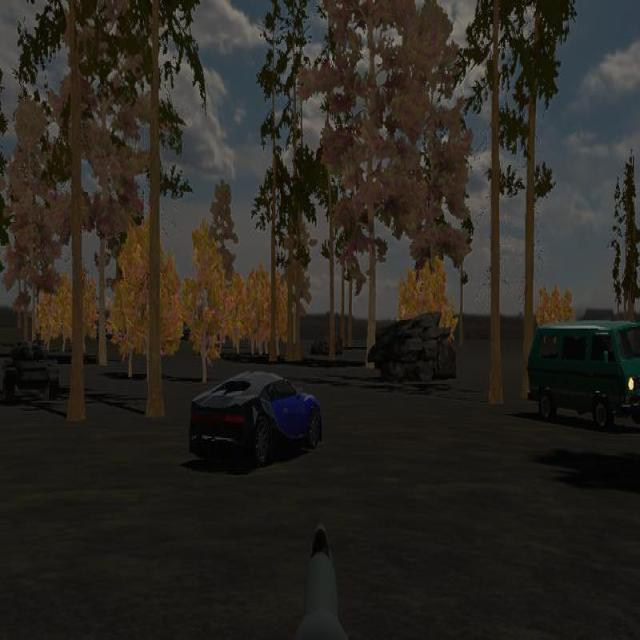car: (188, 370, 323, 466), (527, 321, 640, 429)
